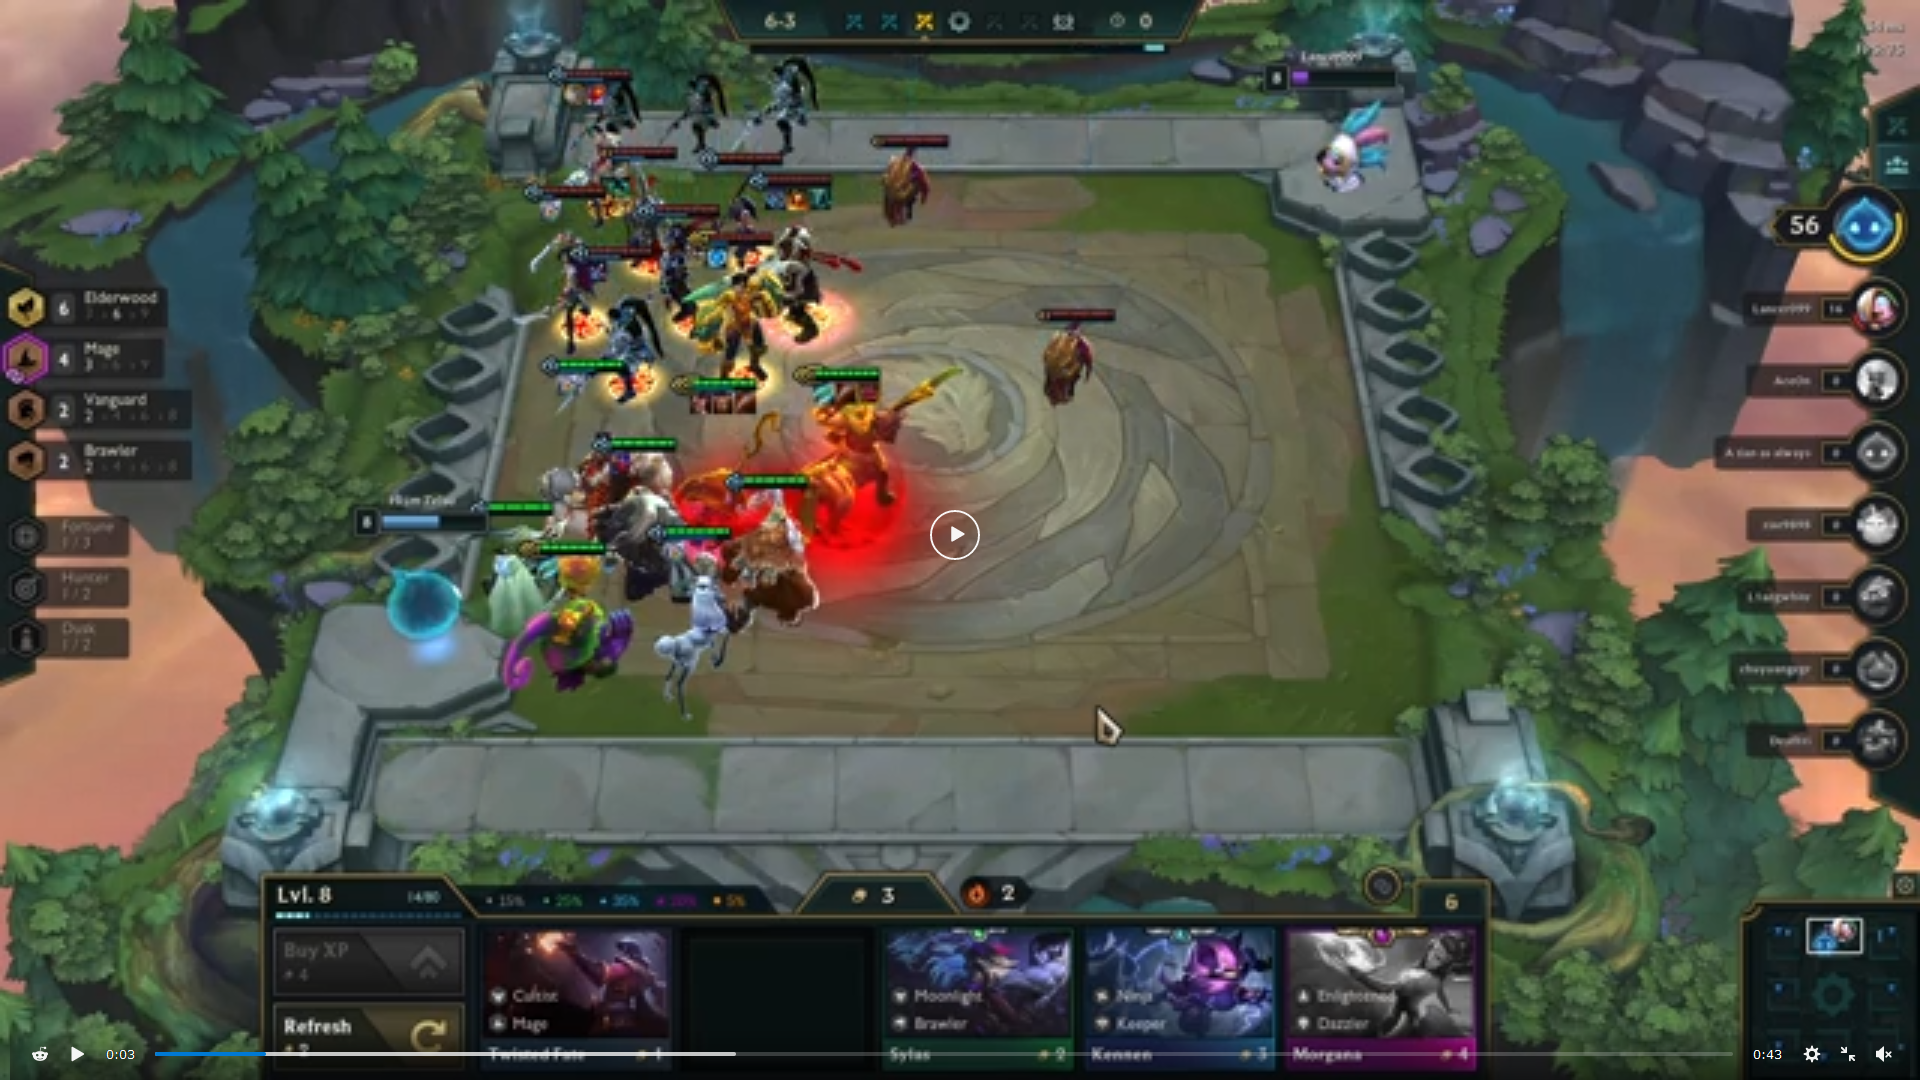1star_azir: (585, 137, 687, 284)
1star_azirsoldier: (1019, 302, 1135, 419), (851, 120, 967, 237)
2star_ashe: (459, 491, 574, 650)
2star_garen: (676, 167, 874, 353)
2star_garen_chosen: (674, 165, 872, 352)
2star_jarvaniv: (622, 195, 733, 353)
2star_katarina: (501, 171, 617, 365)
2star_lillia: (632, 522, 740, 729)
2star_maokai: (579, 423, 709, 608)
2star_nidalee: (691, 142, 789, 286)
2star_sejuani: (524, 348, 691, 572)
2star_xinzhao: (559, 233, 680, 415)
3star_hecarim: (783, 357, 978, 546)
3star_lulu: (659, 364, 789, 562)
3star_veigar: (489, 535, 645, 717)
3star_vi: (669, 223, 785, 400)
item_bramble: (709, 386, 738, 417)
item_dclaw: (831, 377, 861, 407), (729, 386, 760, 417)
item_frozenheart: (702, 243, 732, 273)
item_gunblade: (808, 377, 839, 407)
item_lastwhisper: (582, 256, 612, 286)
item_morello: (760, 183, 790, 214)
item_negatron: (556, 78, 587, 108)
item_quicksilver: (804, 185, 835, 214)
item_redemption: (556, 369, 587, 400), (535, 195, 564, 225)
item_shroud: (605, 444, 636, 475)
item_sunfire: (782, 183, 812, 214)
item_thief: (855, 377, 884, 407)
item_warlord: (582, 79, 611, 109)
item_zeke: (684, 386, 715, 415)
trait_brawler2: (1, 435, 199, 488)
trait_dusk1: (1, 611, 199, 667)
trait_elderwood6: (1, 280, 199, 336)
trait_fortune1: (1, 506, 199, 563)
trait_hunter1: (1, 556, 199, 615)
trait_mage4: (1, 326, 199, 388)
trait_mage_chosen: (1, 328, 53, 388)
trait_vanguard2: (1, 382, 199, 436)
